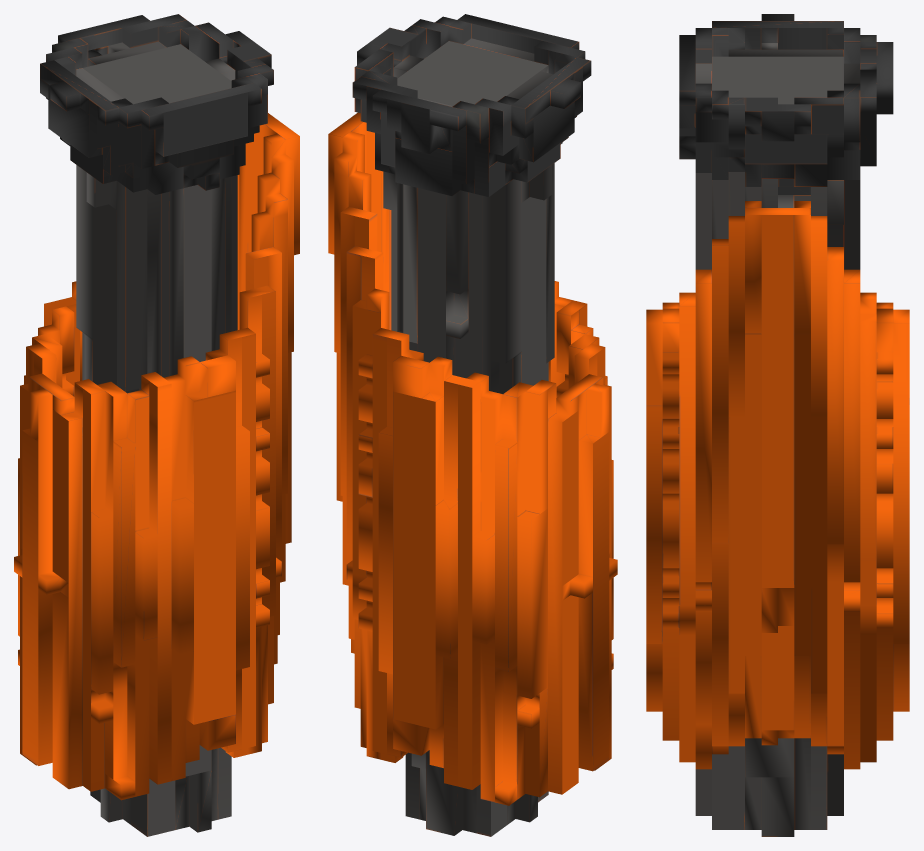
Rendered from KaishiPierna.obj.
The picture shows the model from 3 angles, left to right: view 1: azimuth 30°, elevation 25°; view 2: azimuth 150°, elevation 25°; view 3: azimuth 270°, elevation 25°; orthographic projection.
Parts seen in each view (by area): view 1: kaishipierna_18x50x16; view 2: kaishipierna_18x50x16; view 3: kaishipierna_18x50x16.
Boxes of the visible parts, left/top/right/bottom form: kaishipierna_18x50x16: left=14, top=14, right=299, bottom=836; kaishipierna_18x50x16: left=328, top=14, right=617, bottom=836; kaishipierna_18x50x16: left=646, top=14, right=909, bottom=836.
Bounding box in the file's own units: 0.1437 × 0.3991 × 0.1278.
